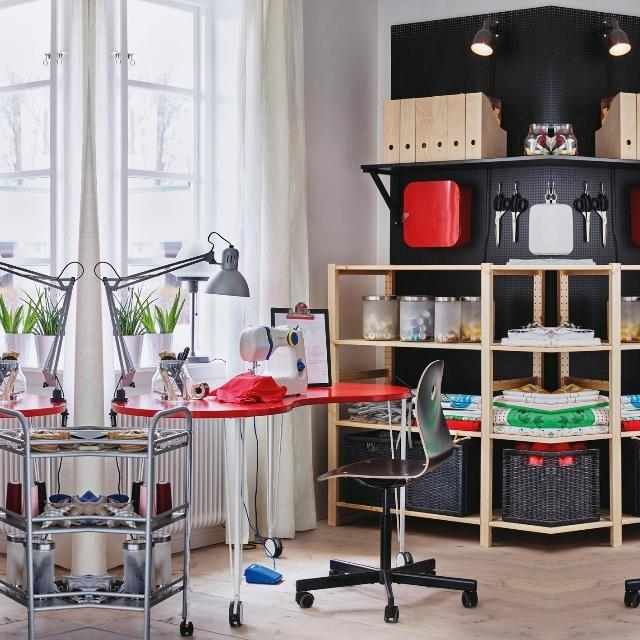obstacle: (290, 356, 480, 624), (88, 406, 208, 640), (0, 406, 88, 639), (621, 355, 640, 624)
